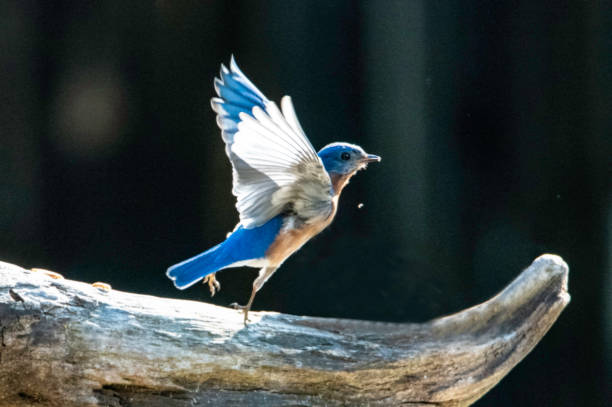Bird: (162, 49, 384, 326)
